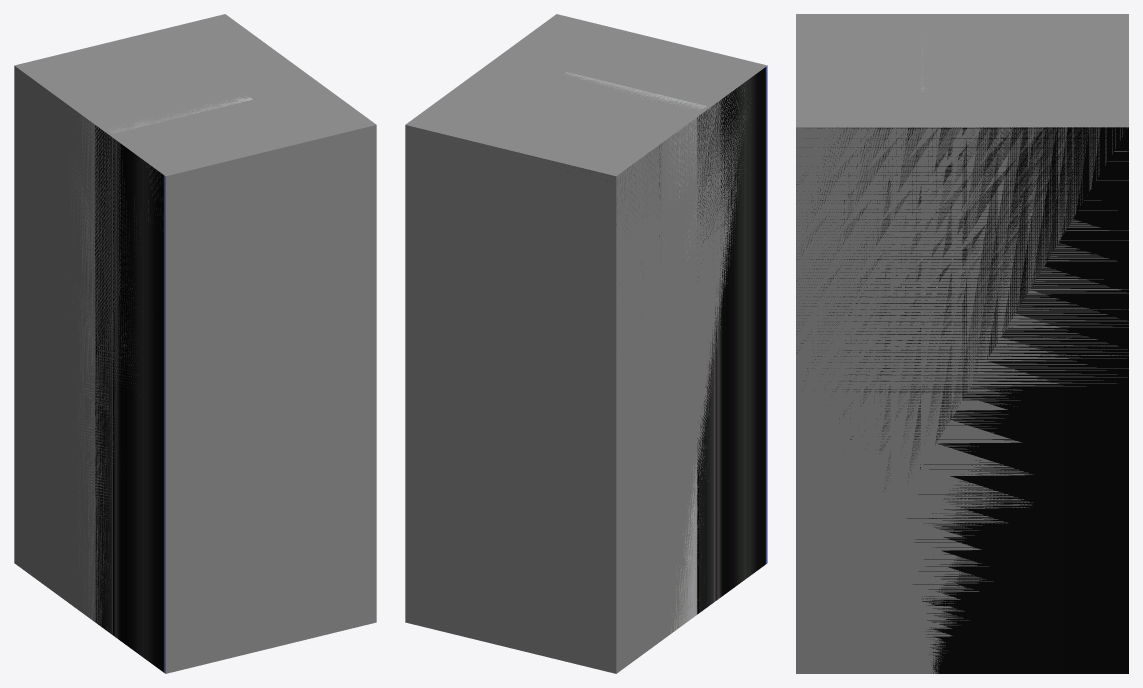
The model's file is refridgerator.FBX.
3 views of the same model, side by side, from view 1: azimuth 30°, elevation 25°; view 2: azimuth 150°, elevation 25°; view 3: azimuth 270°, elevation 25° (orthographic). The views are drawn at different scales.
Parts seen in each view (by area): view 1: bounds, colbox-1, refridgerator100; view 2: bounds, colbox-1, refridgerator100; view 3: bounds, colbox-1.
Part boxes in pixels (<box>): bounds: <box>14,14,376,673</box>; colbox-1: <box>65,105,165,673</box>; refridgerator100: <box>107,96,252,133</box>; bounds: <box>405,14,767,673</box>; colbox-1: <box>582,66,767,633</box>; refridgerator100: <box>565,72,706,110</box>; bounds: <box>796,14,1128,673</box>; colbox-1: <box>796,127,1128,673</box>.
Bounding box in the file's own units: 91.54 × 206 × 114.
